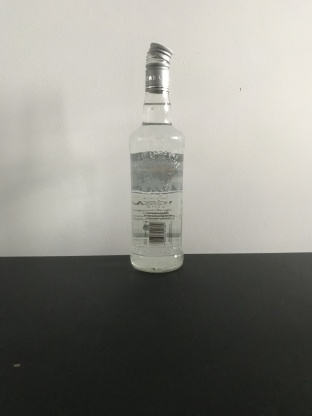nakretka: (143, 39, 174, 93)
